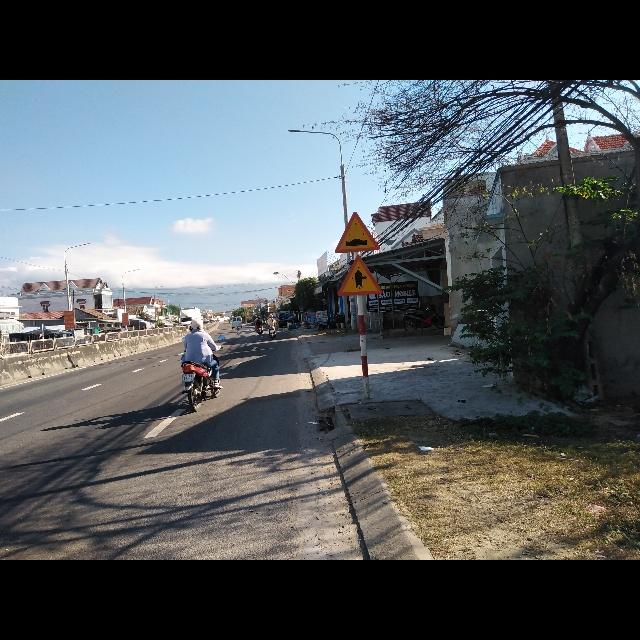Giao nhau với đường không ưu tiên: (337, 257, 383, 298)
Đường không bằng phẳng: (333, 212, 382, 255)
